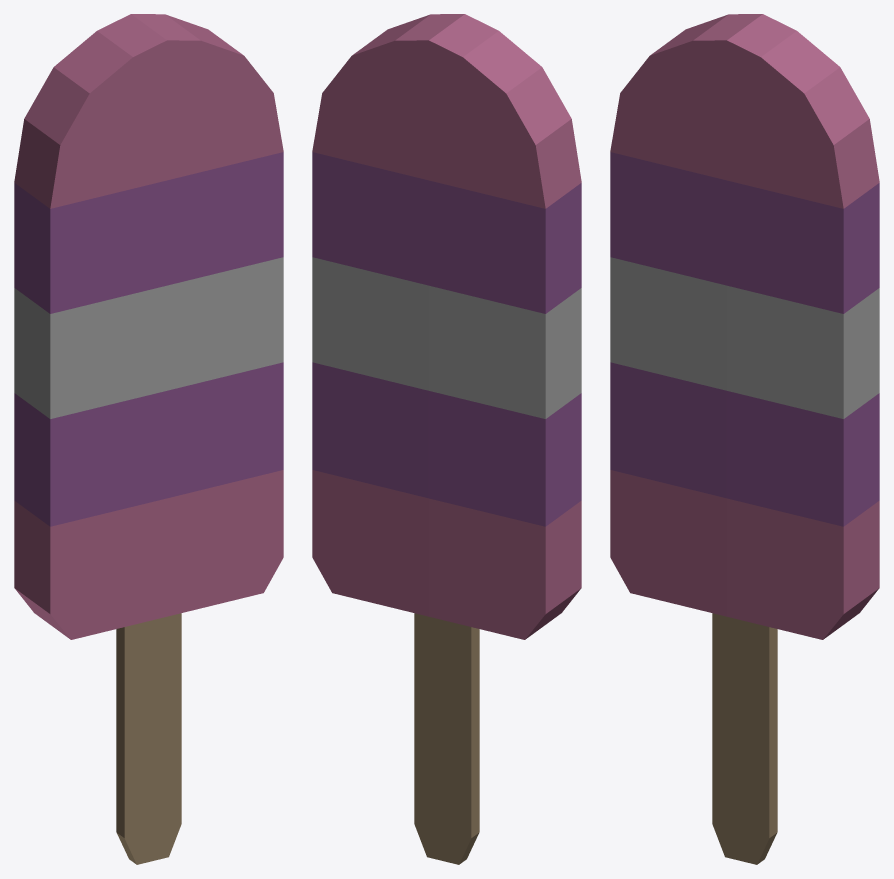
File: Popsicle.obj
3 renders of one model, left to right at view 1: azimuth 30°, elevation 25°; view 2: azimuth 150°, elevation 25°; view 3: azimuth 330°, elevation 25°, orthographic.
Visible parts, largest first — view 1: mesh_1, mesh_2, mesh_3, mesh_0; view 2: mesh_1, mesh_2, mesh_3, mesh_0; view 3: mesh_1, mesh_2, mesh_3, mesh_0.
Part boxes in pixels (<box>): mesh_1: <box>14,14,283,639</box>; mesh_2: <box>14,152,283,526</box>; mesh_3: <box>14,257,283,418</box>; mesh_0: <box>116,613,181,864</box>; mesh_1: <box>312,14,581,639</box>; mesh_2: <box>312,152,581,526</box>; mesh_3: <box>312,257,581,418</box>; mesh_0: <box>414,613,479,864</box>; mesh_1: <box>610,14,879,639</box>; mesh_2: <box>610,152,879,526</box>; mesh_3: <box>610,257,879,418</box>; mesh_0: <box>712,613,777,864</box>.
Bounding box in the file's own units: 0.2911 × 0.99 × 0.0798.
